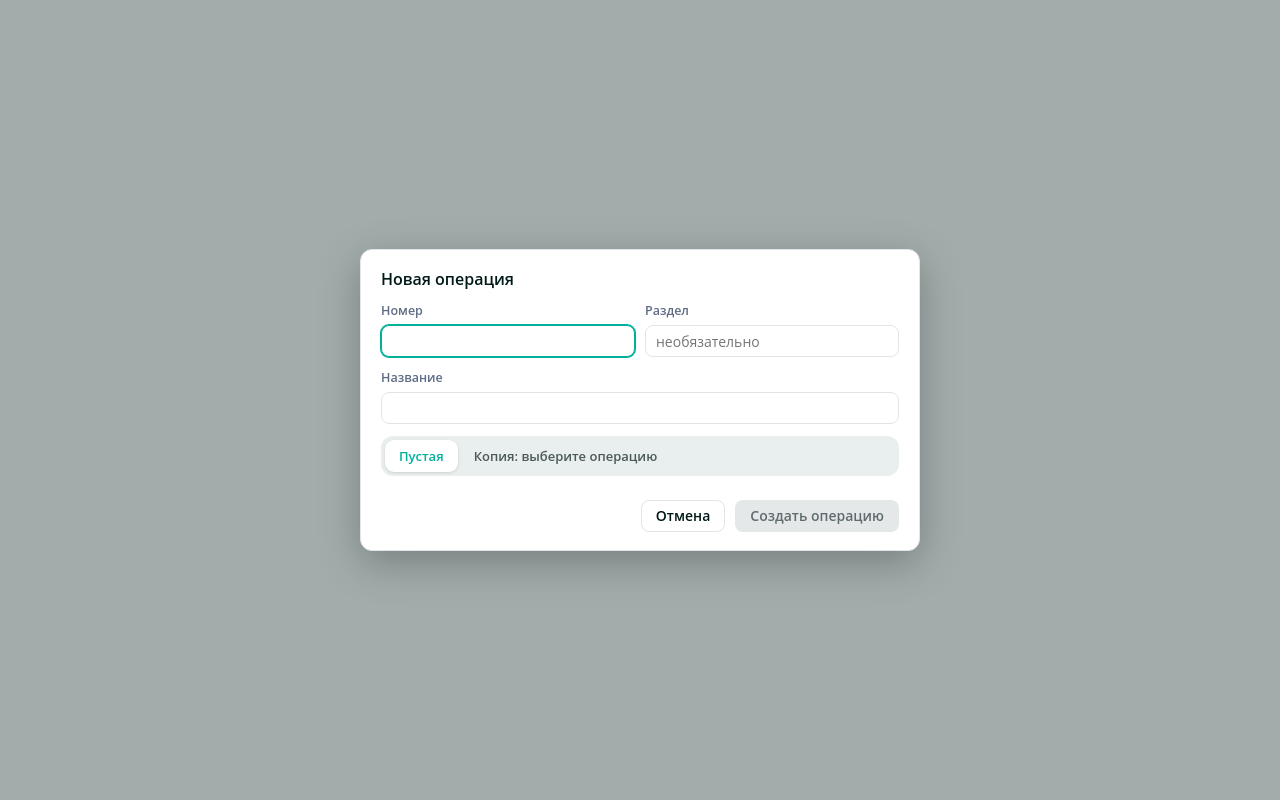
Test: shows a taken code under «Номер», not as a banner
Step 1. Type "CUT_WIRE_auto" into the field labelled "Номер" → x=508, y=341, box [381,325,635,357]
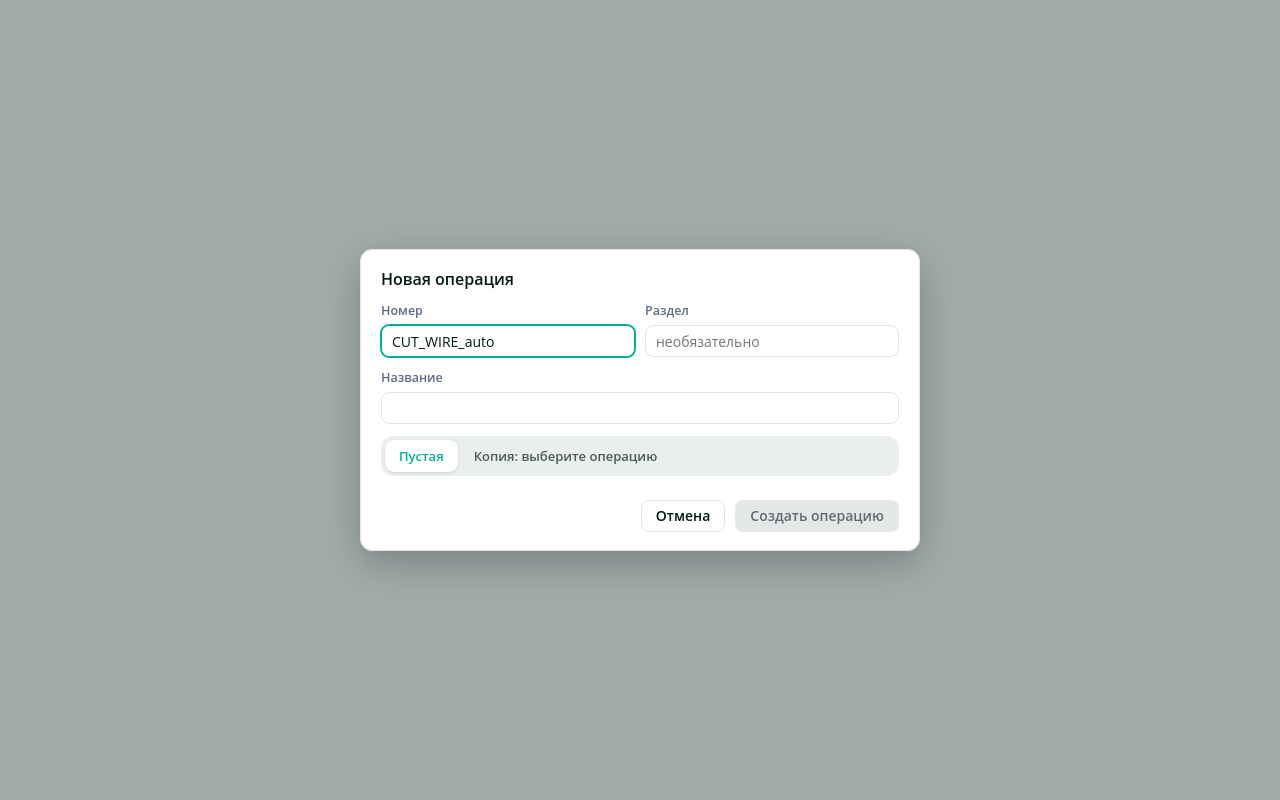
Step 2. Type "Дубль" into the field labelled "Название" → x=640, y=408, box [381,392,899,424]
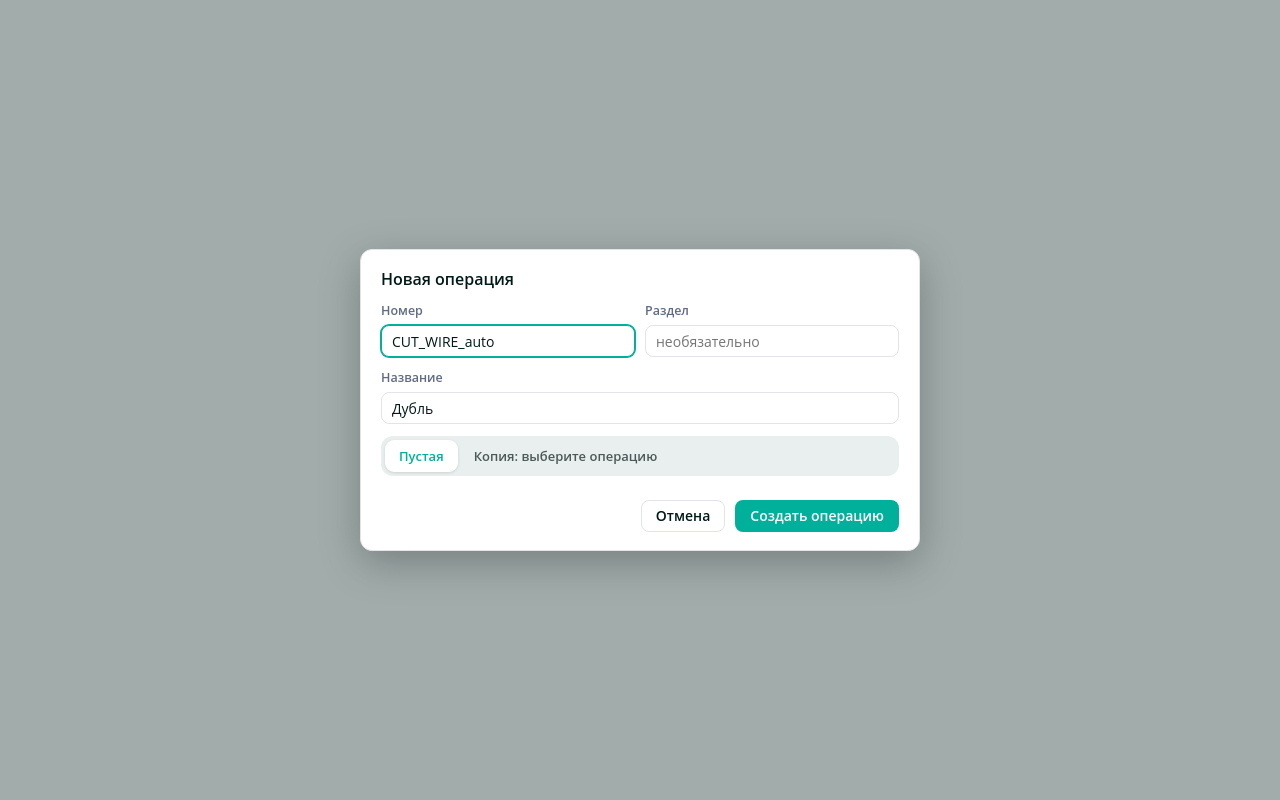
Step 3. Click the button "Создать операцию" → x=817, y=516, box [735,500,899,532]
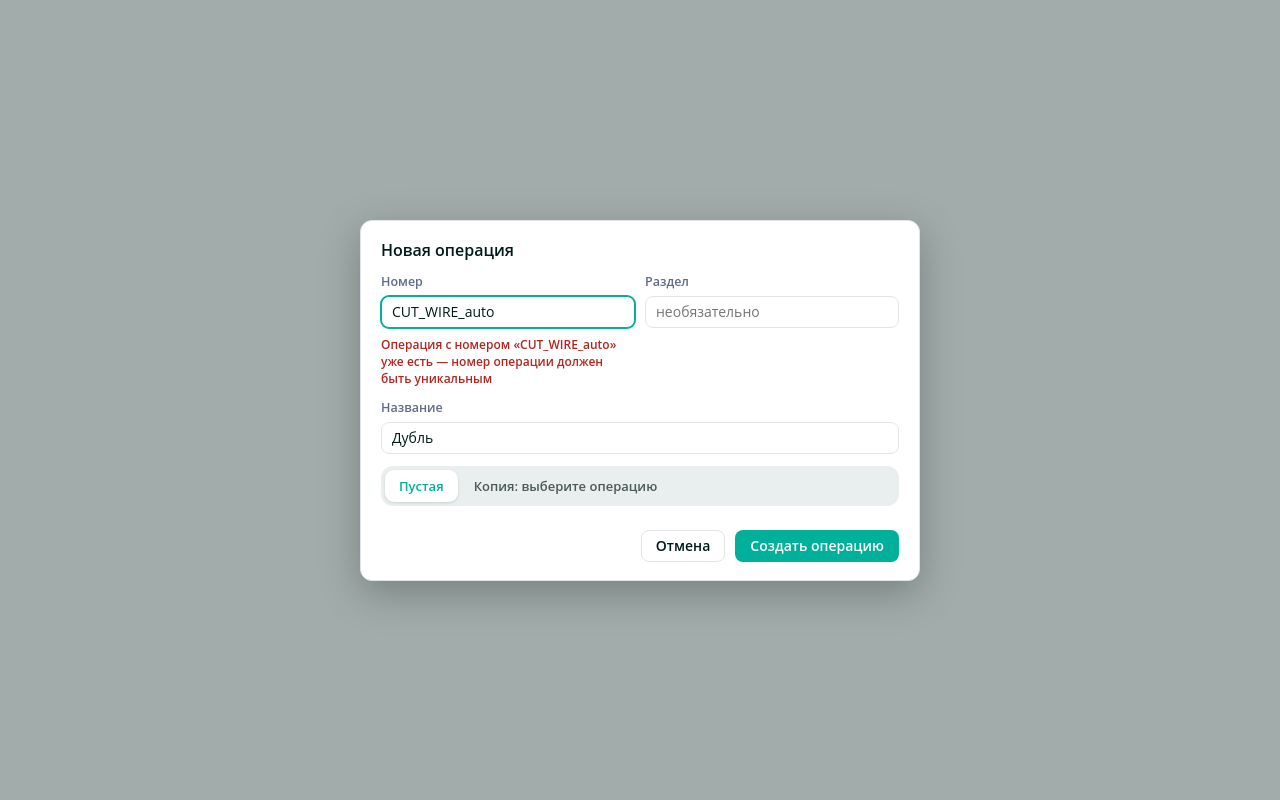
Result: the message shows "Операция с номером «CUT_WIRE_auto» уже есть — номер операции должен быть уникальным" at [381,336,616,386]
